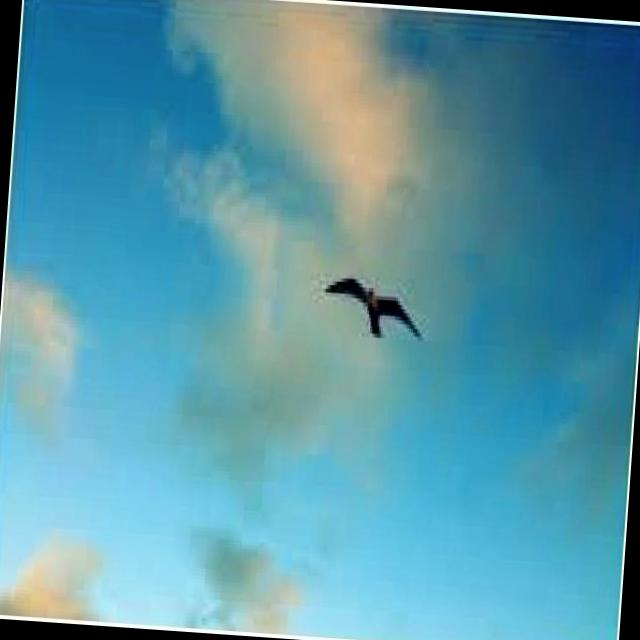bird: (316, 264, 428, 356)
